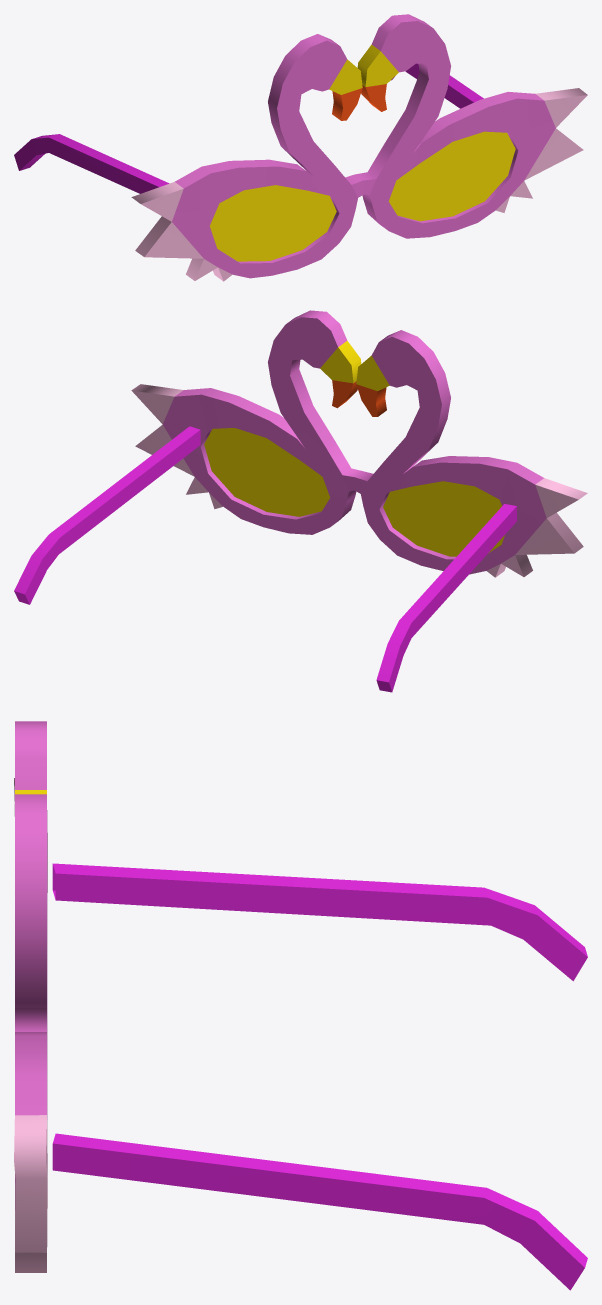
Rendered from Flamingo_glasses.fbx.
3 views of the same model, one above another, from view 1: azimuth 30°, elevation 25°; view 2: azimuth 150°, elevation 25°; view 3: azimuth 270°, elevation 25° (orthographic). The views are drawn at different scales.
Parts seen in each view (by area): view 1: Flamingo_glasses.c, Glasses_stick_06, Glasses_stick_07; view 2: Flamingo_glasses.c, Glasses_stick_07, Glasses_stick_06; view 3: Glasses_stick_07, Glasses_stick_06, Flamingo_glasses.c.
Part boxes in pixels (x1=…): Flamingo_glasses.c: x1=131, y1=14, x2=587, y2=281; Glasses_stick_06: x1=14, y1=134, x2=169, y2=193; Glasses_stick_07: x1=391, y1=63, x2=483, y2=108; Flamingo_glasses.c: x1=131, y1=310, x2=587, y2=577; Glasses_stick_07: x1=14, y1=426, x2=200, y2=604; Glasses_stick_06: x1=376, y1=504, x2=516, y2=692; Glasses_stick_07: x1=52, y1=1133, x2=587, y2=1290; Glasses_stick_06: x1=52, y1=863, x2=587, y2=981; Flamingo_glasses.c: x1=14, y1=721, x2=47, y2=1272.
Size of the model in its own units: 0.8443 by 0.4001 by 0.5347.
